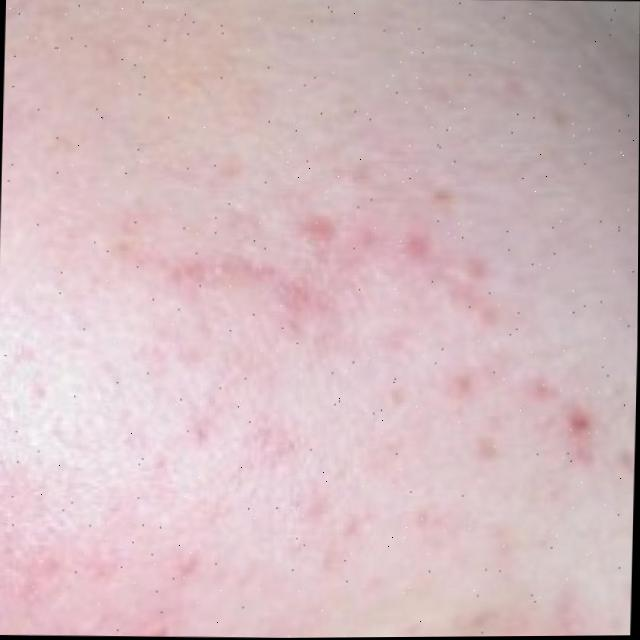Acne: (104, 159, 639, 502)
